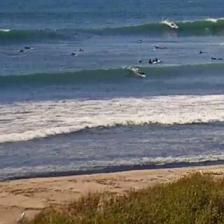surfer: (138, 70, 146, 78), (154, 45, 168, 49), (171, 24, 179, 30), (211, 57, 222, 61), (71, 53, 79, 57), (137, 39, 143, 44), (148, 59, 153, 65), (199, 50, 206, 54), (137, 59, 143, 63), (154, 57, 158, 63), (78, 48, 84, 52), (25, 46, 31, 50), (19, 49, 25, 53)
